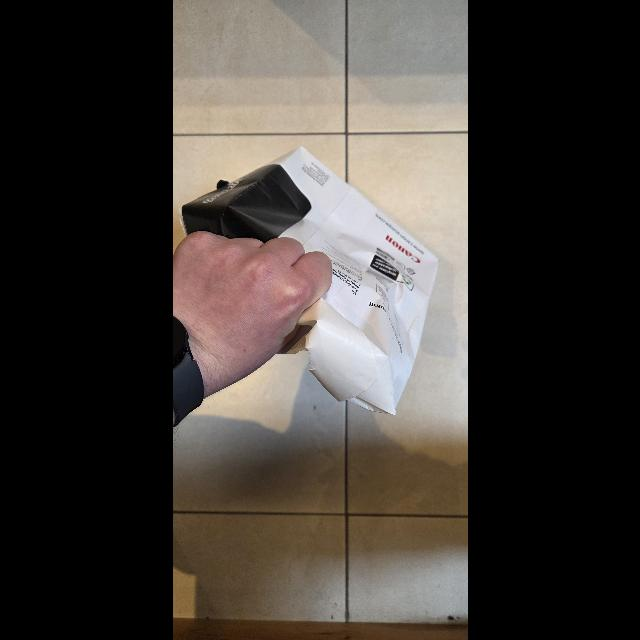Paper: (176, 143, 440, 413)
